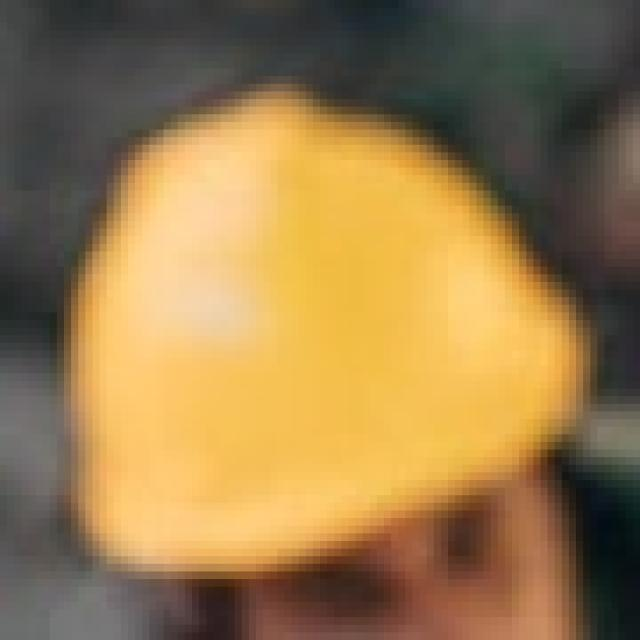helmet_yellow: (4, 4, 636, 636)
